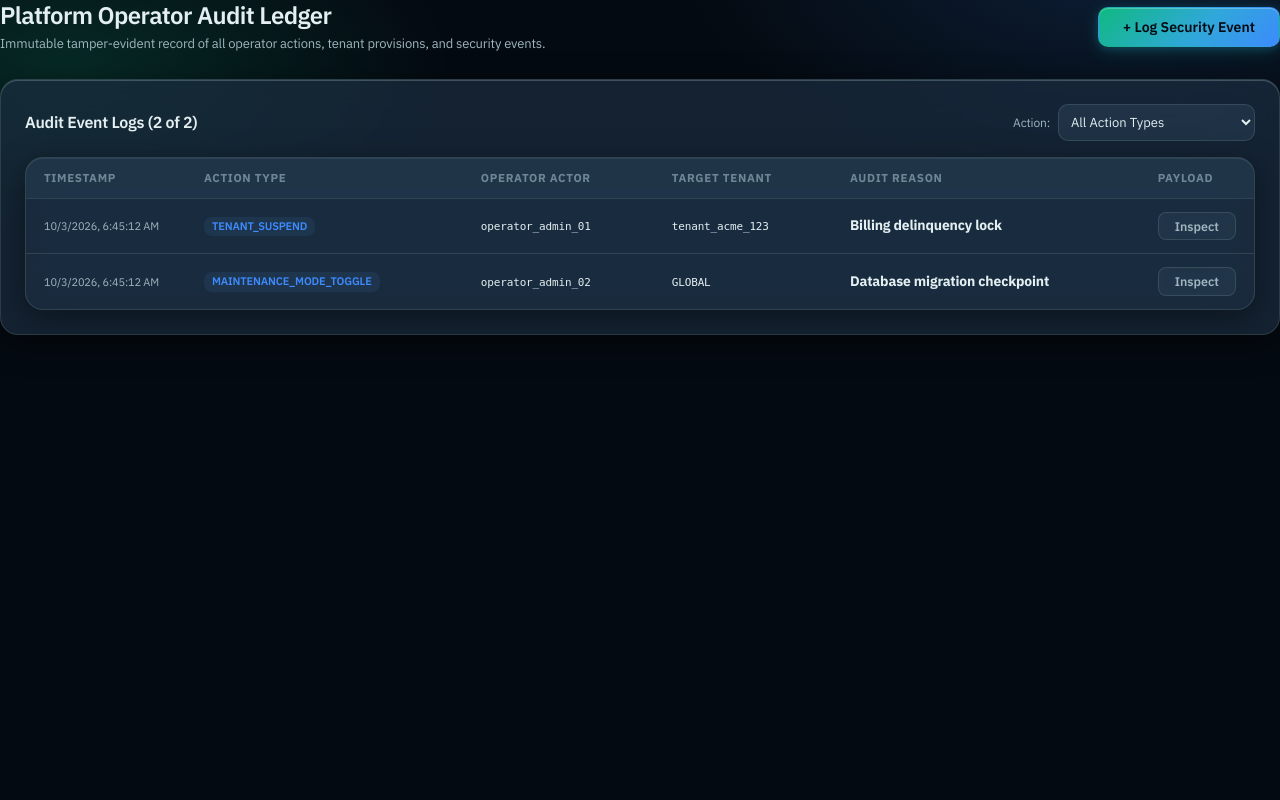
PlatformAudit Page › renders operator audit log table and allows payload inspection
The image size is (1280, 800).
Expected: the heading "Platform Operator Audit Ledger" is shown, x1=0 y1=0 x2=331 y2=31
Expected: the text "Billing delinquency lock" is shown, x1=850 y1=216 x2=1002 y2=234
Click the button "Inspect" in the row of "tenant_suspend" at (1197, 226), box x1=1158 y1=212 x2=1236 y2=240
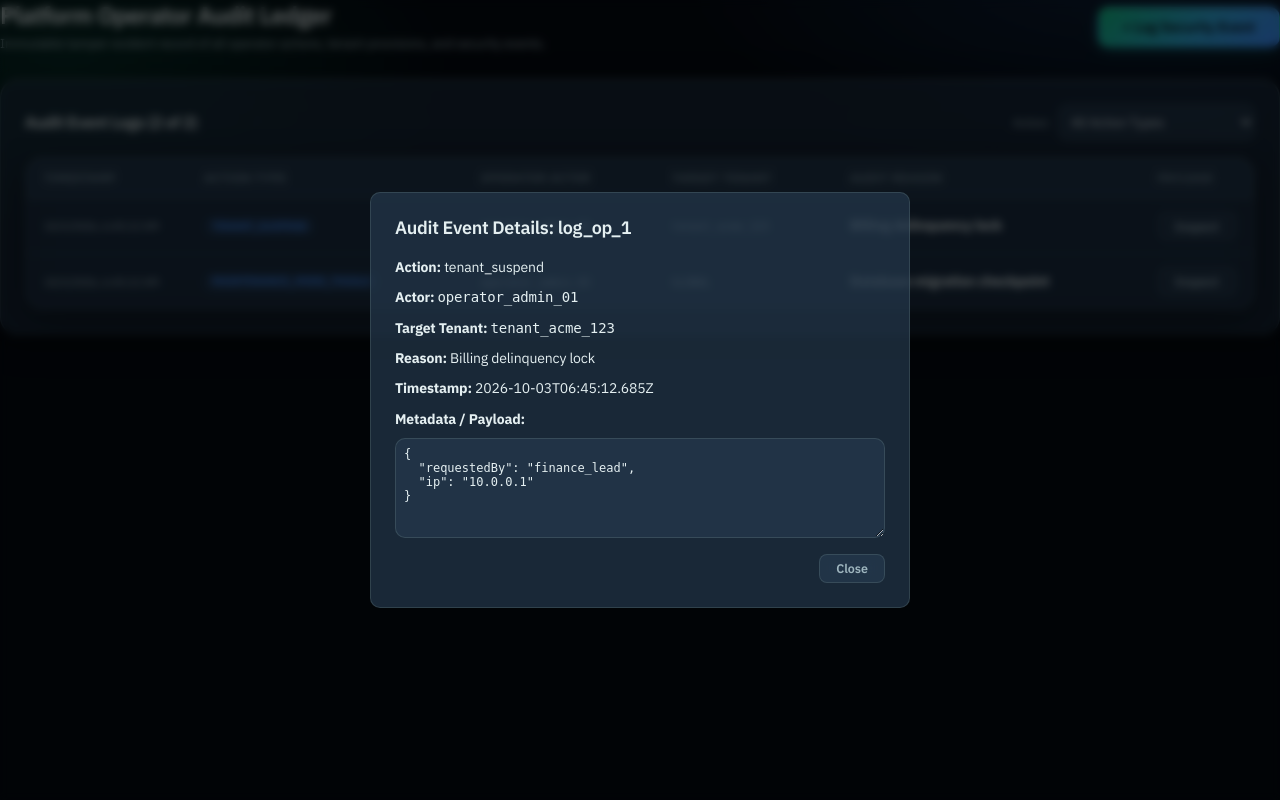
Result: the heading "Audit Event Details: log_op_1" is shown at x1=395 y1=216 x2=631 y2=239
Result: the text box "finance_lead" is shown at x1=395 y1=438 x2=885 y2=538
